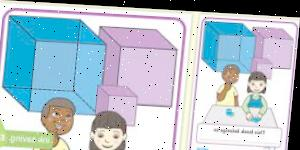cube: (96, 25, 179, 106)
